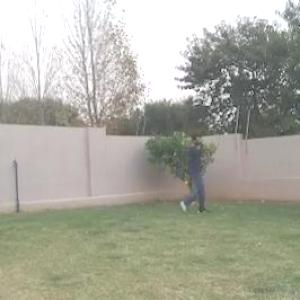follow: (186, 125, 210, 221)
